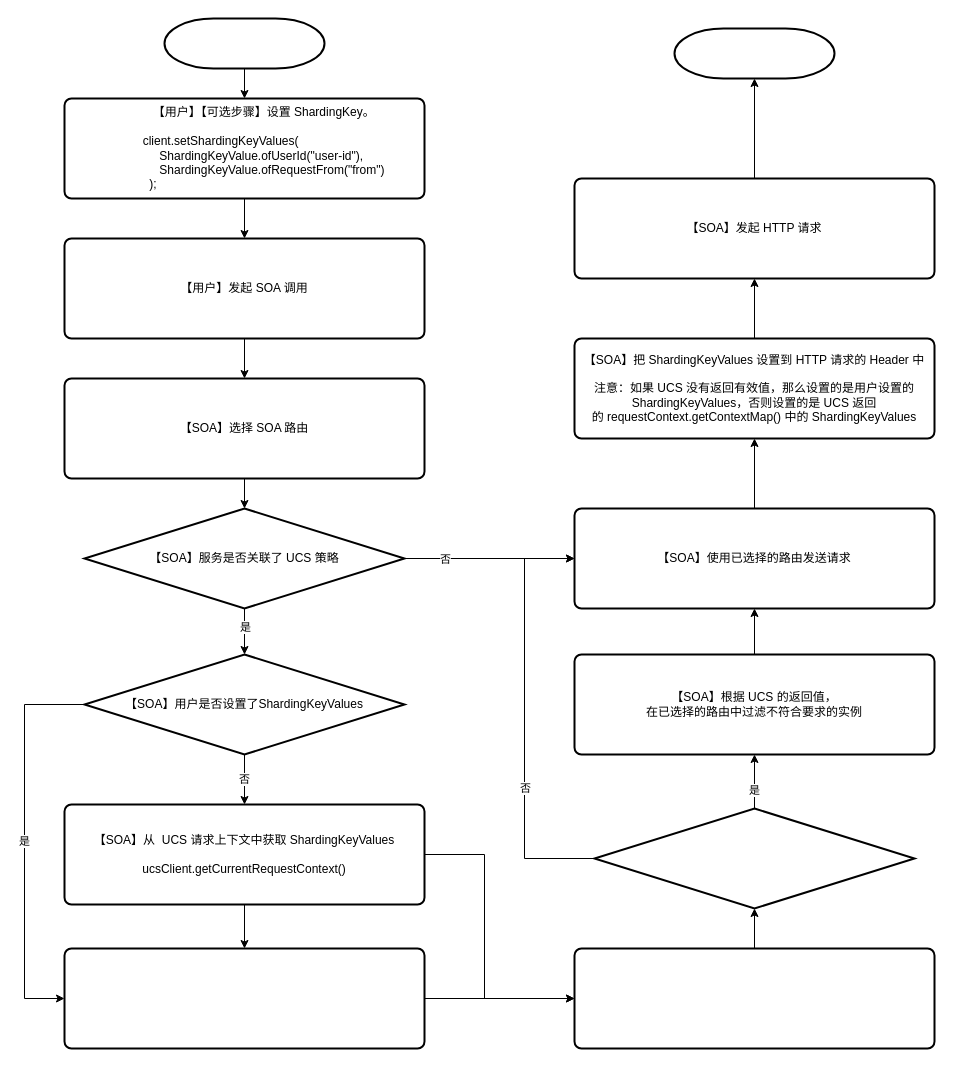
Some shapes in this 953 by 1066 pixel diagram are drawn without their labels. Each missing label, with the box of its shape:
【SOA】UCS 是否返回了有效值: (593, 807, 915, 909)
【SOA】使用 ShardingKeyValues 执行 UCS 策略: (63, 947, 425, 1049)
【UCS】执行 UCS 策略: (573, 947, 935, 1049)
开始: (163, 17, 325, 69)
结束: (673, 27, 835, 79)
